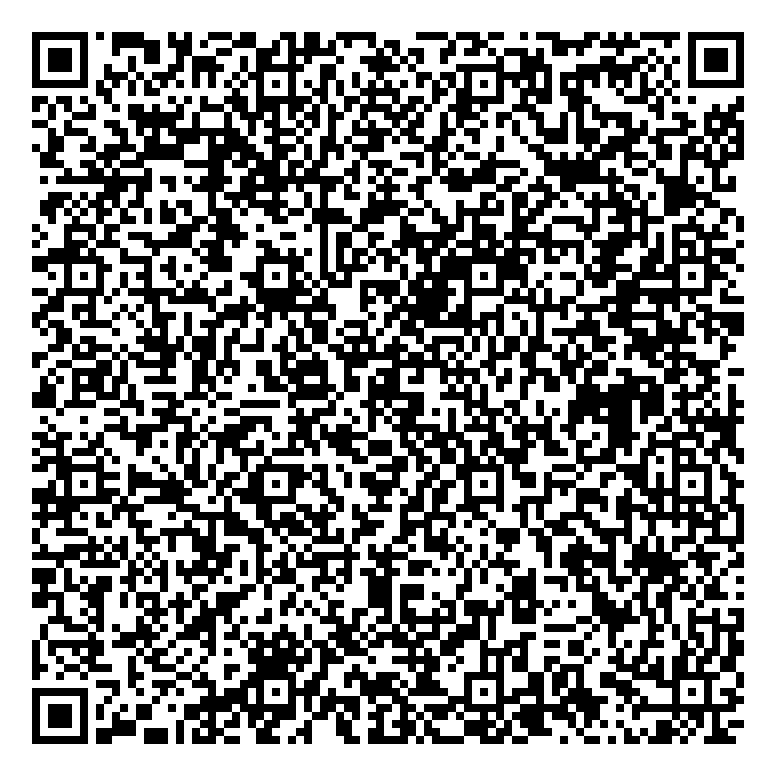QR_CODE: (17, 18, 764, 759)
